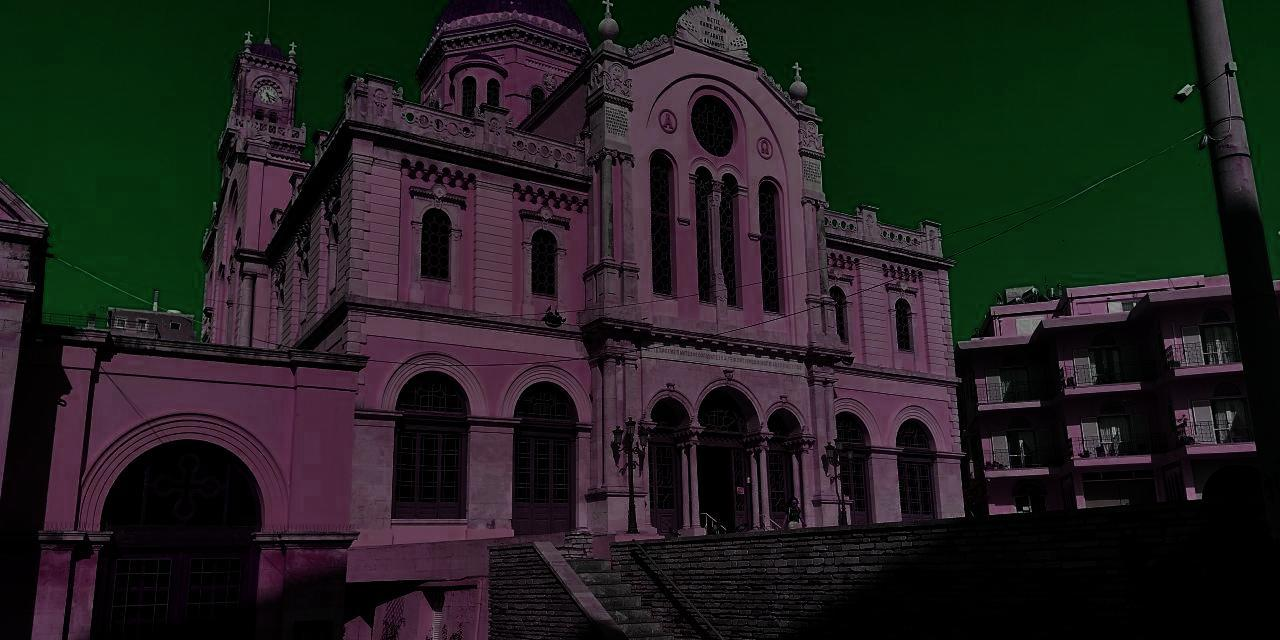Agios Minas: (1, 3, 968, 640)
